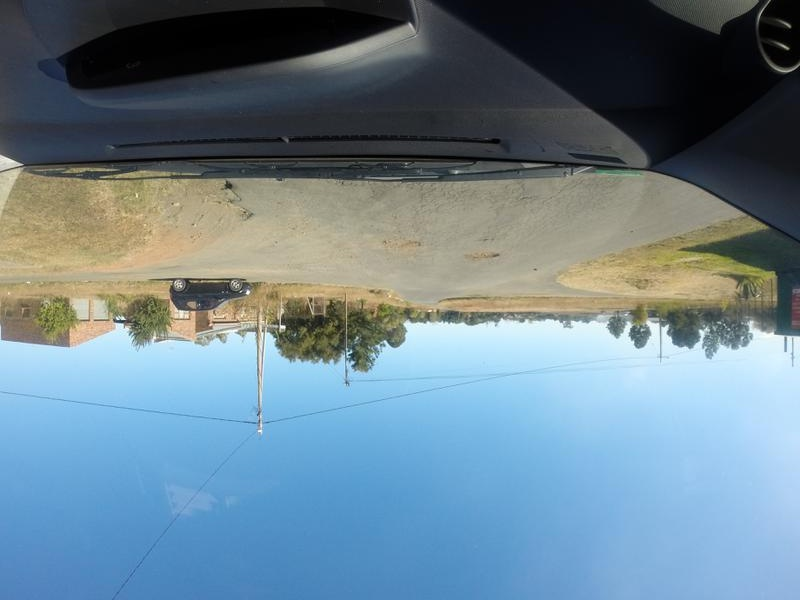pothole: (188, 186, 265, 221), (379, 228, 426, 257), (464, 244, 504, 266)
